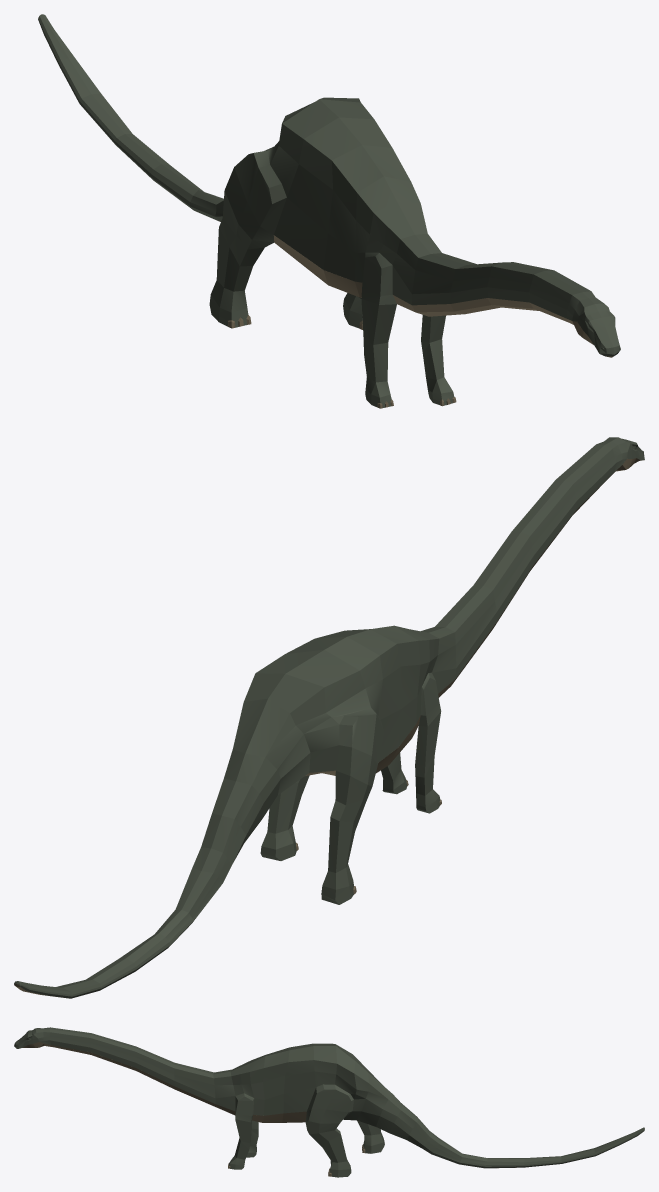
File: dino-apatosaurus.glb
The picture shows the model from 3 angles, top to bottom: view 1: azimuth 30°, elevation 25°; view 2: azimuth 150°, elevation 25°; view 3: azimuth 270°, elevation 25°; orthographic projection. The views are drawn at different scales.
Parts seen in each view (by area): view 1: Cylinder_1, Cylinder_2; view 2: Cylinder_1, Cylinder_2; view 3: Cylinder_1, Cylinder_2.
Part boxes in pixels (<box>): Cylinder_1: <box>38,14,620,407</box>; Cylinder_2: <box>123,152,613,408</box>; Cylinder_1: <box>14,437,644,998</box>; Cylinder_2: <box>14,458,644,997</box>; Cylinder_1: <box>14,1027,644,1177</box>; Cylinder_2: <box>22,1042,631,1176</box>.
Bounding box in the file's own units: 4.41 × 8.56 × 38.11.
